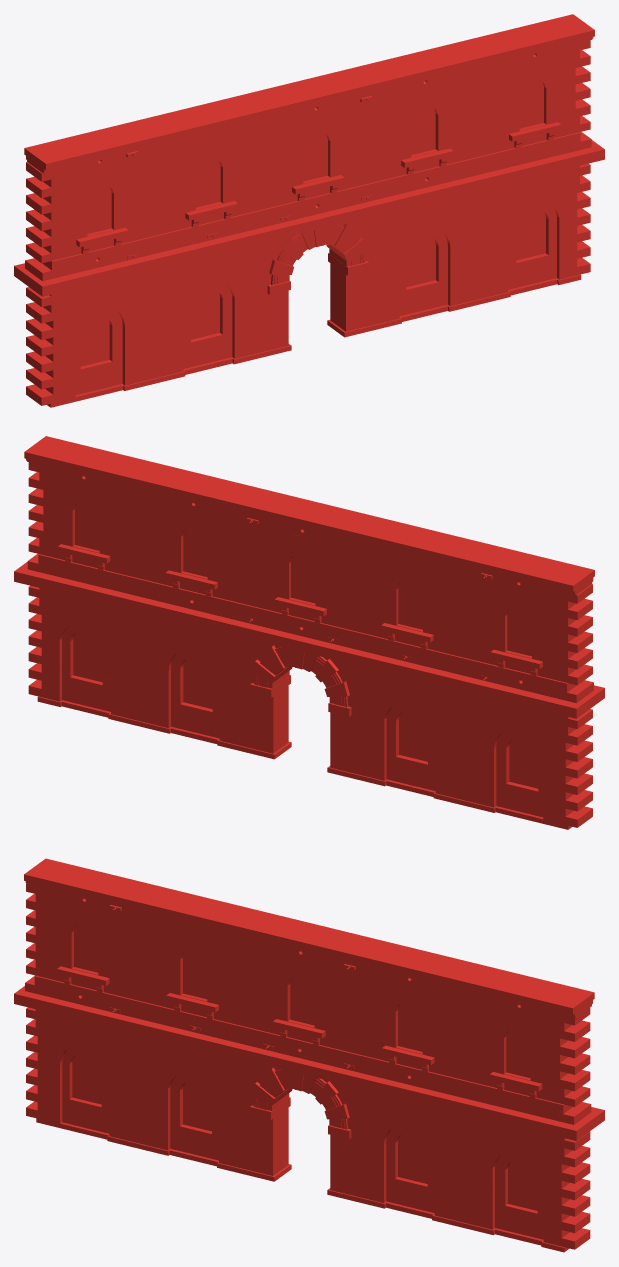
Rendered from Separate_Facade_Texture_Test.fbx.
3 renders of one model, top to bottom at view 1: azimuth 30°, elevation 25°; view 2: azimuth 150°, elevation 25°; view 3: azimuth 330°, elevation 25°, orthographic.
Parts seen in each view (by area): view 1: Cube.7036, Cube.7185, Cube.6805, Cube.7657, Cube.7187, Cube.7565, Cube.7193, Cube.7179, Cube.7658, Cube.6929, Cube.6934, Cube.7559 (+19 smaller); view 2: Cube.7036, Cube.7185, Cube.6805, Cube.7657, Cube.6943, Cube.7431, Cube.7555, Cube.7569, Cube.6932, Cube.7189, Cube.7337, Cube.7559 (+19 smaller); view 3: Cube.7036, Cube.6934, Cube.7301, Cube.7657, Cube.7553, Cube.7559, Cube.7658, Cube.7667, Cube.7179, Cube.7193, Cube.7565, Cube.7187 (+19 smaller).
Boxes of the visible parts, bbox=[...] form: Cube.7036: bbox=[271, 225, 364, 285]; Cube.7185: bbox=[24, 143, 65, 173]; Cube.6805: bbox=[14, 263, 62, 296]; Cube.7657: bbox=[514, 23, 558, 53]; Cube.7187: bbox=[221, 95, 262, 125]; Cube.7565: bbox=[475, 33, 516, 63]; Cube.7193: bbox=[103, 124, 144, 154]; Cube.7179: bbox=[357, 62, 398, 92]; Cube.7658: bbox=[298, 76, 339, 106]; Cube.6929: bbox=[436, 43, 476, 73]; Cube.6934: bbox=[554, 14, 594, 44]; Cube.7559: bbox=[44, 138, 85, 168]; Cube.7036: bbox=[254, 647, 348, 707]; Cube.7185: bbox=[553, 565, 594, 595]; Cube.6805: bbox=[556, 685, 604, 718]; Cube.7657: bbox=[61, 445, 104, 475]; Cube.6943: bbox=[240, 489, 281, 518]; Cube.7431: bbox=[317, 507, 358, 537]; Cube.7555: bbox=[435, 536, 476, 566]; Cube.7569: bbox=[122, 460, 163, 490]; Cube.6932: bbox=[181, 474, 222, 504]; Cube.7189: bbox=[376, 522, 417, 552]; Cube.7337: bbox=[494, 551, 535, 580]; Cube.7559: bbox=[534, 560, 574, 590]; Cube.7036: bbox=[254, 1069, 347, 1129]; Cube.6934: bbox=[553, 987, 594, 1017]; Cube.7301: bbox=[556, 1107, 604, 1140]; Cube.7657: bbox=[514, 978, 557, 1008]; Cube.7553: bbox=[161, 892, 202, 922]; Cube.7559: bbox=[43, 863, 84, 893]; Cube.7658: bbox=[297, 925, 338, 955]; Cube.7667: bbox=[415, 954, 456, 984]; Cube.7179: bbox=[356, 939, 397, 969]; Cube.7193: bbox=[102, 877, 143, 907]; Cube.7565: bbox=[474, 968, 515, 998]; Cube.7187: bbox=[220, 906, 261, 936].
Bounding box in the file's own units: 1466 × 619 × 129.
